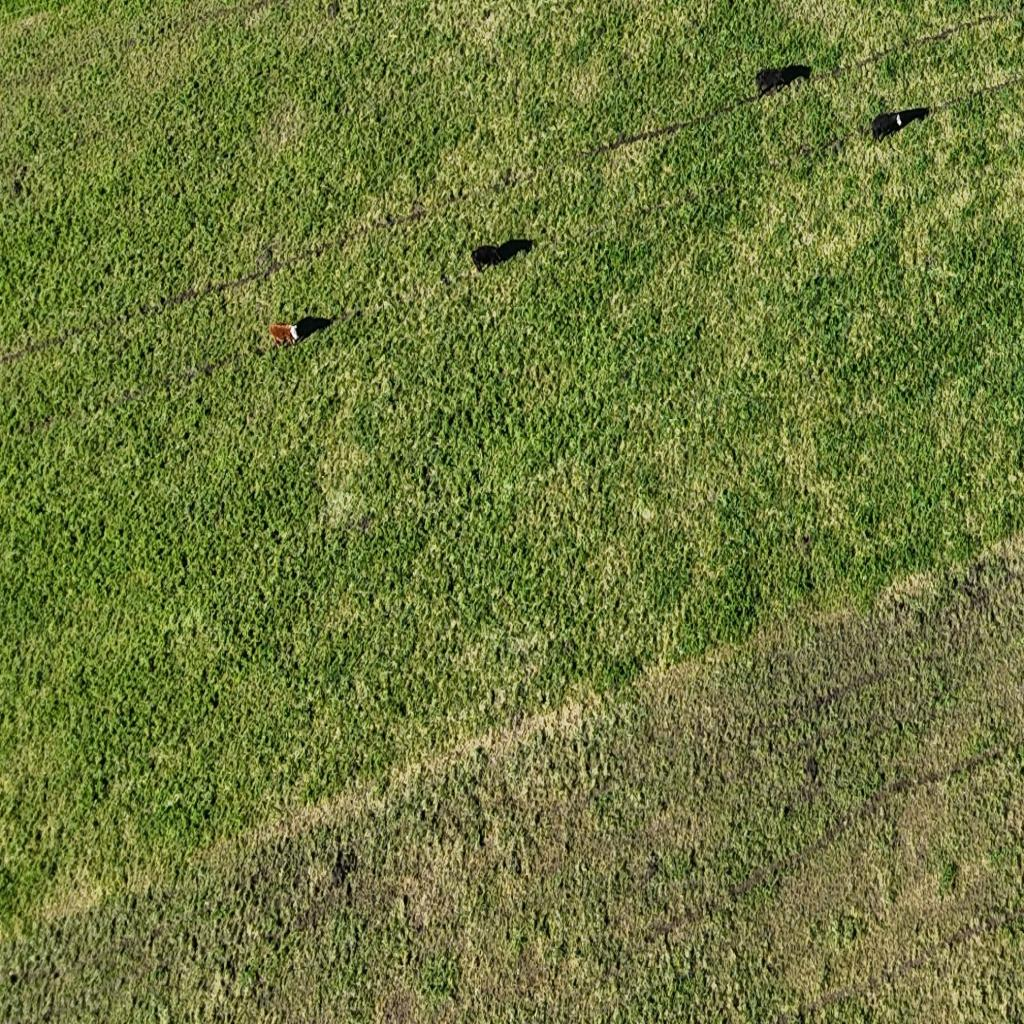cow: (757, 62, 789, 96), (269, 320, 300, 348), (472, 241, 502, 269), (872, 112, 898, 143)
